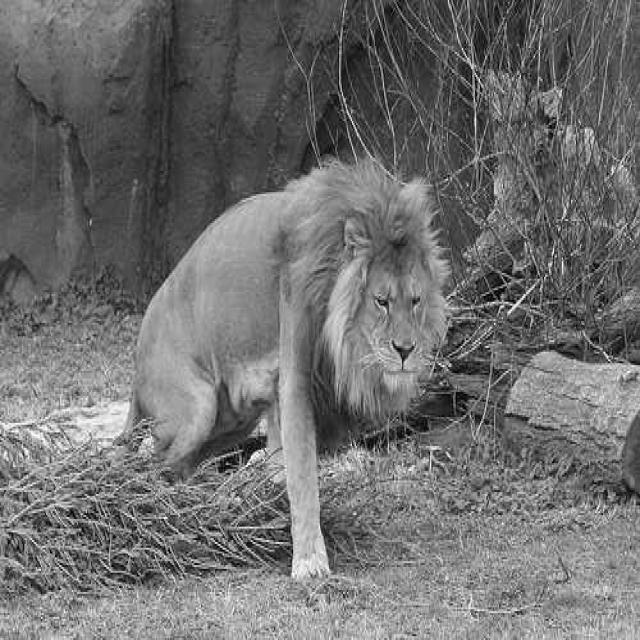Lion: (165, 133, 487, 571)
